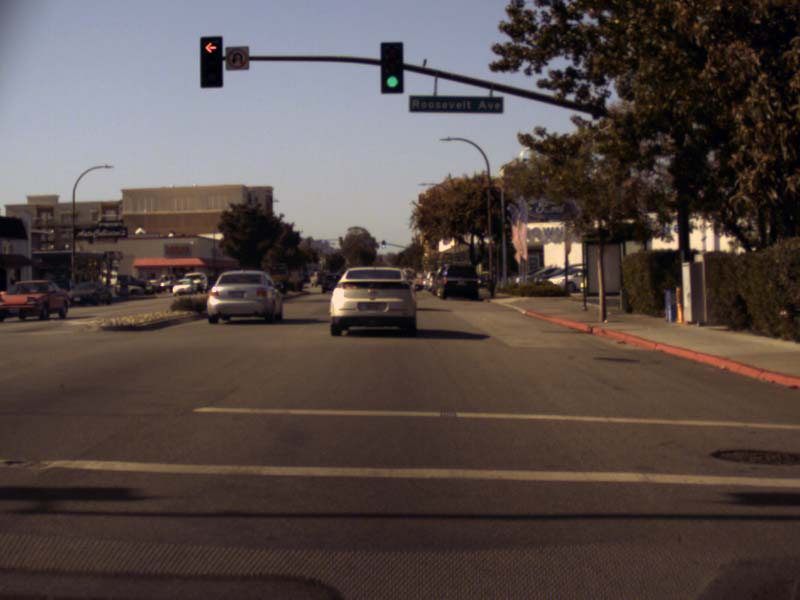Green: (380, 43, 403, 93), (381, 240, 385, 248)
Red: (199, 36, 220, 85)
